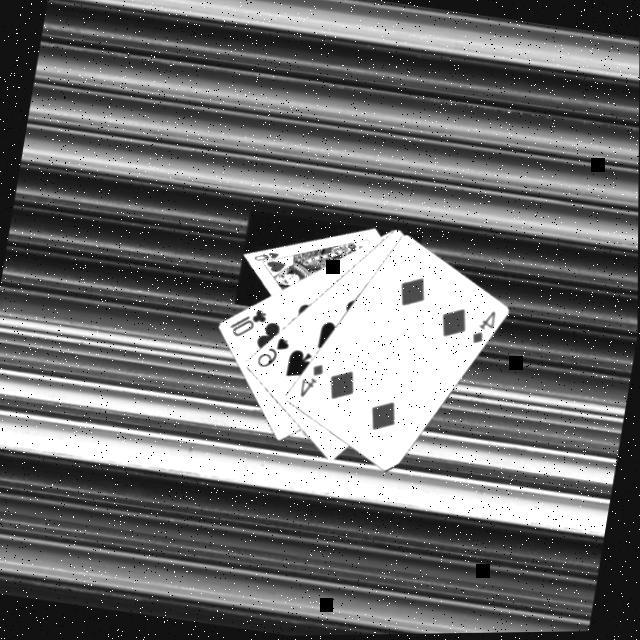10C: (225, 300, 272, 343)
4D: (468, 304, 500, 350), (297, 358, 329, 402)
9S: (254, 330, 295, 373)
